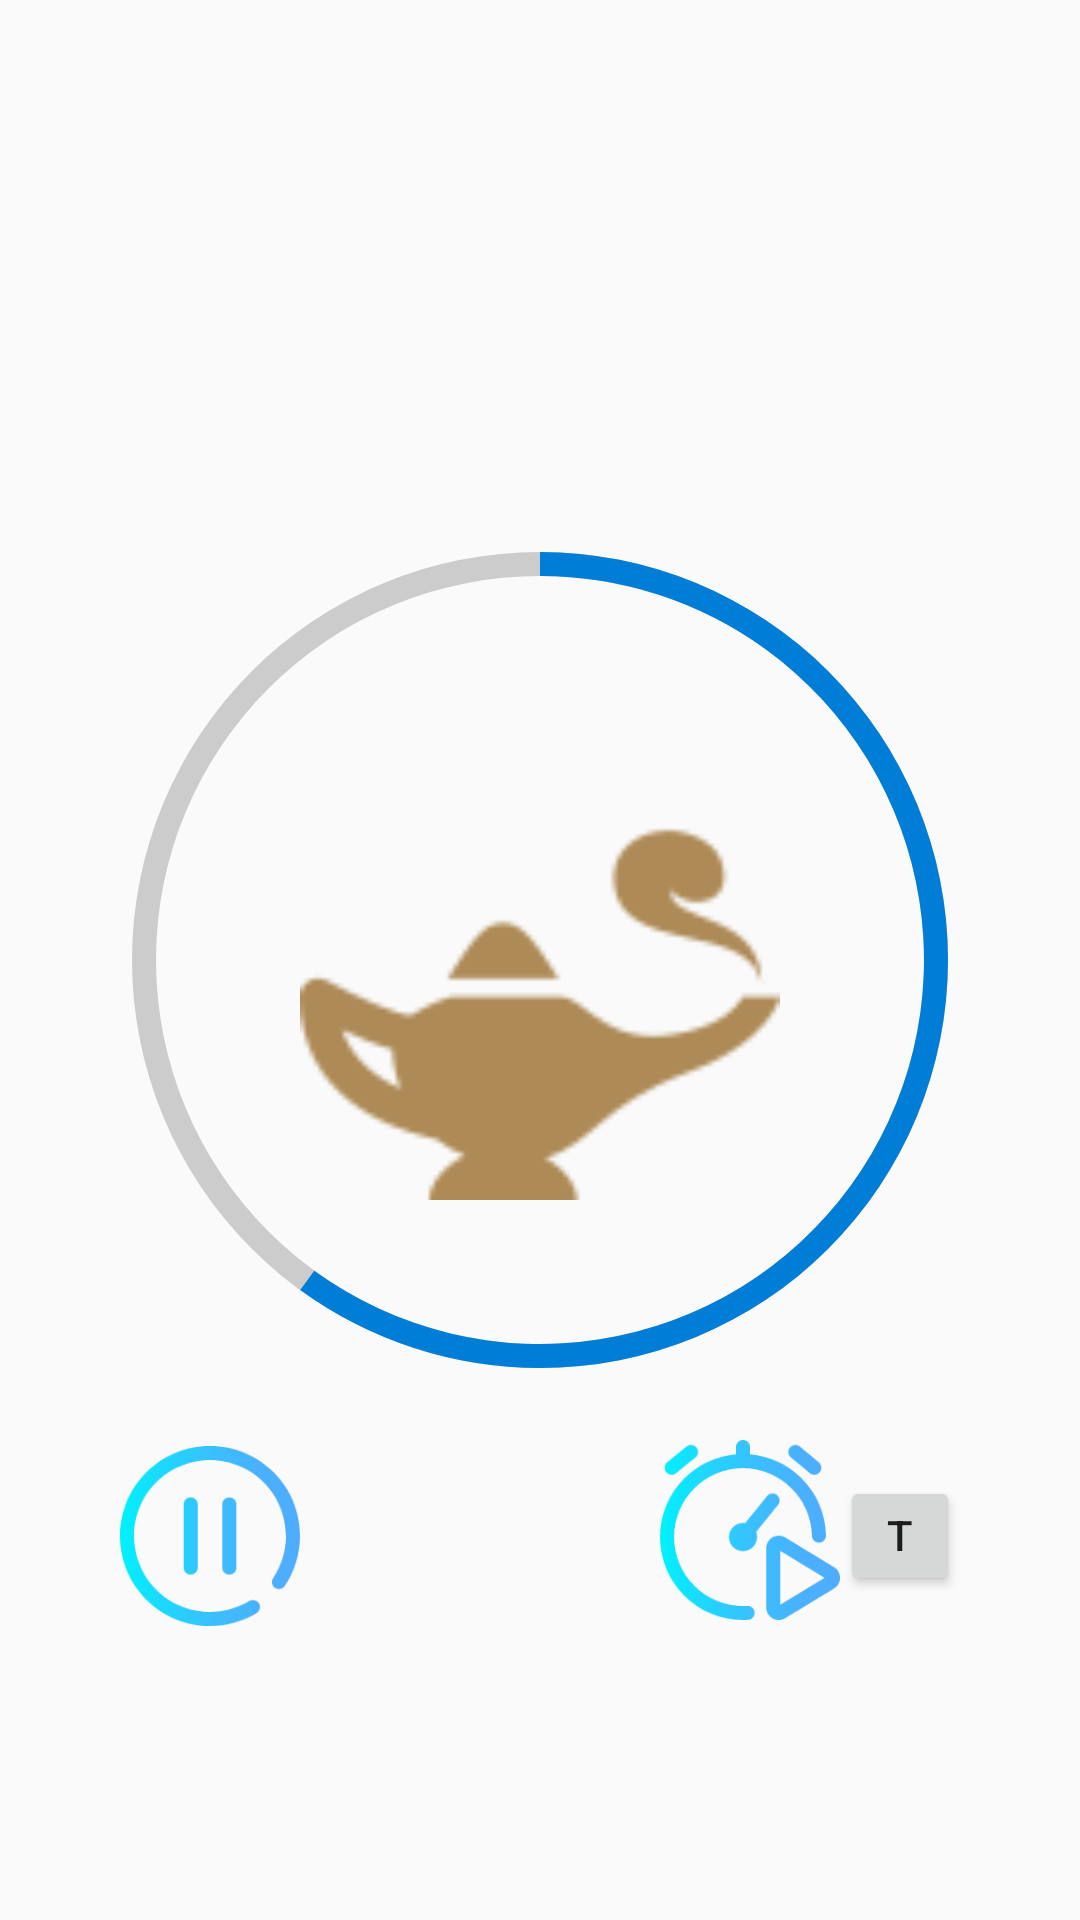

Named icons in this screenshot (1080x1920) and their centers, (x=x, y=y):
pause: (x=210, y=1536)
start: (x=750, y=1530)
